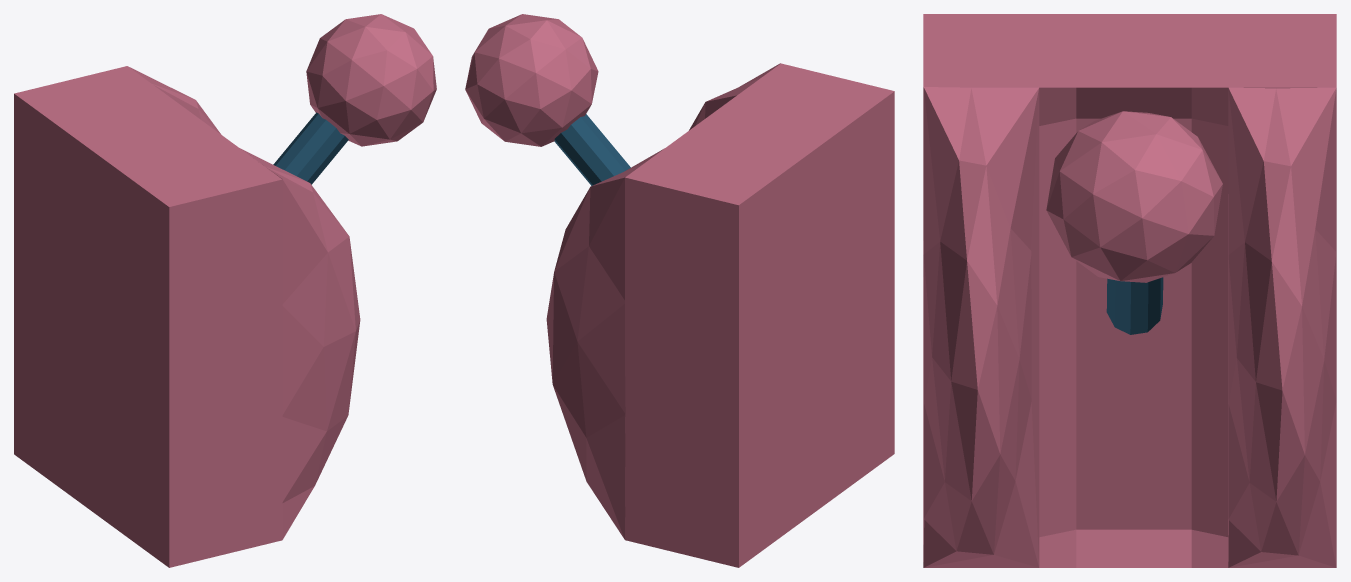
Rendered from Palanca.fbx.
3 views of the same model, side by side, from view 1: azimuth 30°, elevation 25°; view 2: azimuth 150°, elevation 25°; view 3: azimuth 270°, elevation 25° (orthographic). The views are drawn at different scales.
Visible parts, largest first — view 1: Palanca, Base; view 2: Palanca, Base; view 3: Palanca, Base.
Part boxes in pixels (bbox=[...]): Palanca: bbox=[14, 66, 360, 567]; Base: bbox=[273, 14, 436, 184]; Palanca: bbox=[546, 63, 894, 567]; Base: bbox=[465, 14, 630, 185]; Palanca: bbox=[923, 14, 1336, 567]; Base: bbox=[1046, 111, 1222, 334].
Bounding box in the file's own units: 196 × 233 × 156.
